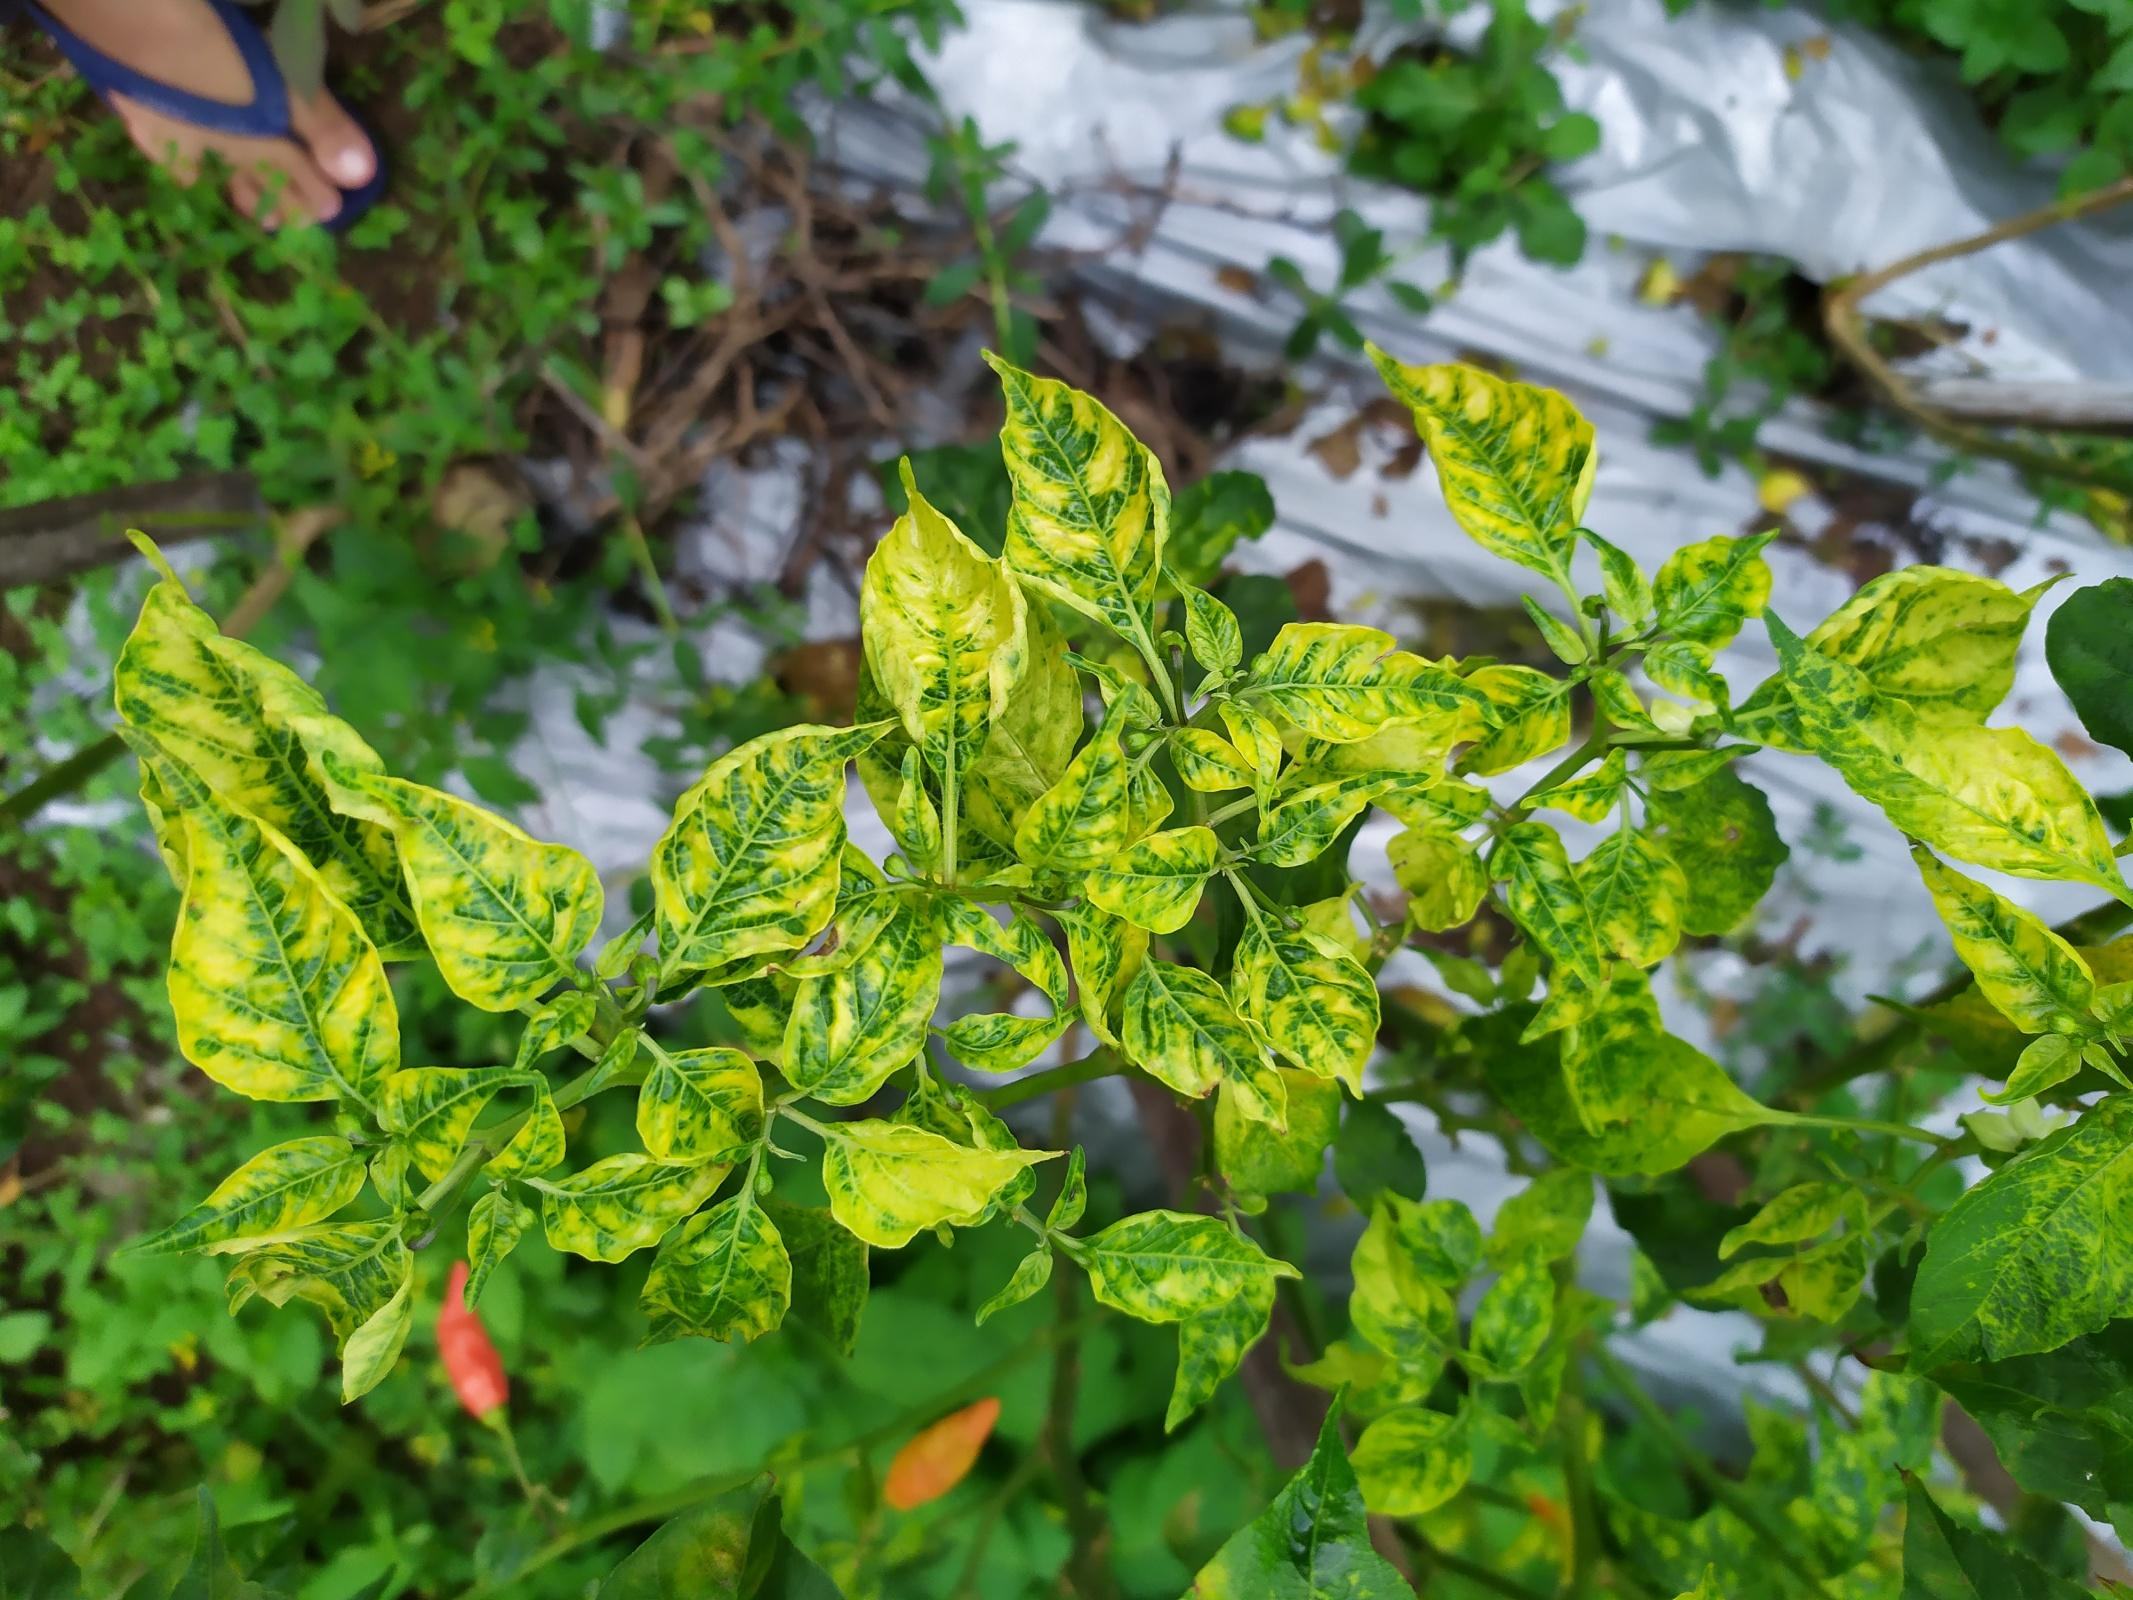cabai_normal: (881, 1395, 1003, 1514), (437, 1257, 506, 1420)
